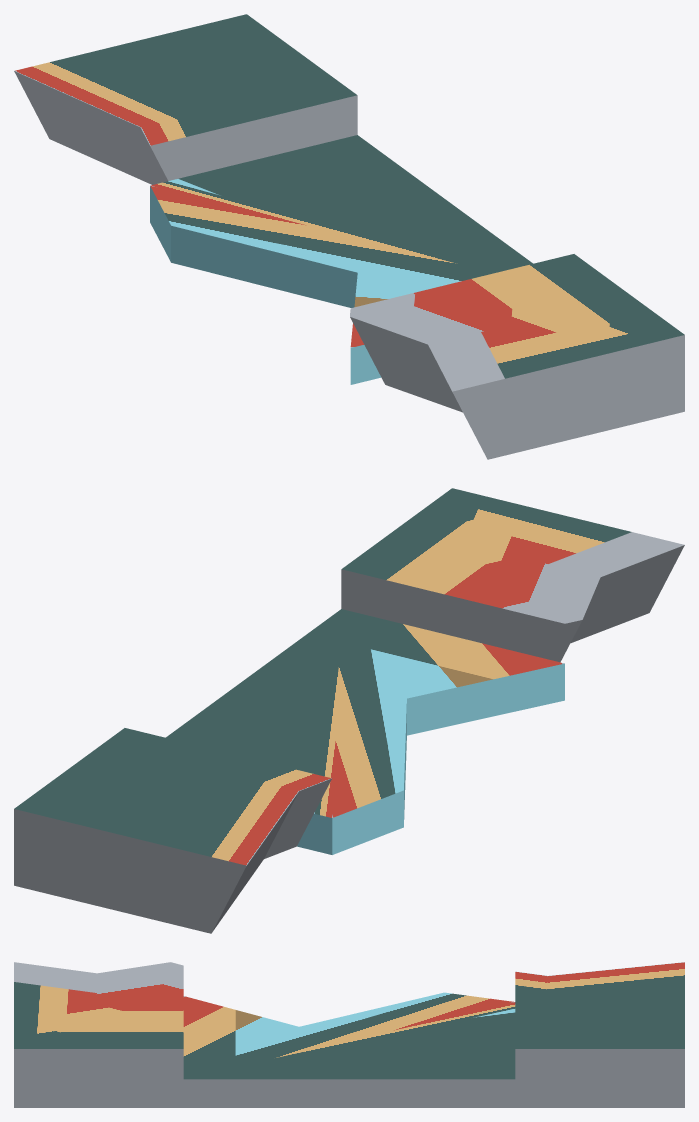
File: Grey_Waterfall_Top_01.obj
3 views of the same model, one above another, from view 1: azimuth 30°, elevation 25°; view 2: azimuth 150°, elevation 25°; view 3: azimuth 270°, elevation 25° (orthographic). The views are drawn at different scales.
Parts seen in each view (by area): view 1: Mesh1 Grey_Waterfall_Top Model; view 2: Mesh1 Grey_Waterfall_Top Model; view 3: Mesh1 Grey_Waterfall_Top Model.
Boxes of the visible parts, x1,y1,x2,y2 form: Mesh1 Grey_Waterfall_Top Model: (14,14,684,459); Mesh1 Grey_Waterfall_Top Model: (14,488,684,933); Mesh1 Grey_Waterfall_Top Model: (14,962,684,1107).
Size of the model in its own units: 0.92 by 0.29 by 3.
Materials: 1 (1 with a texture image).
